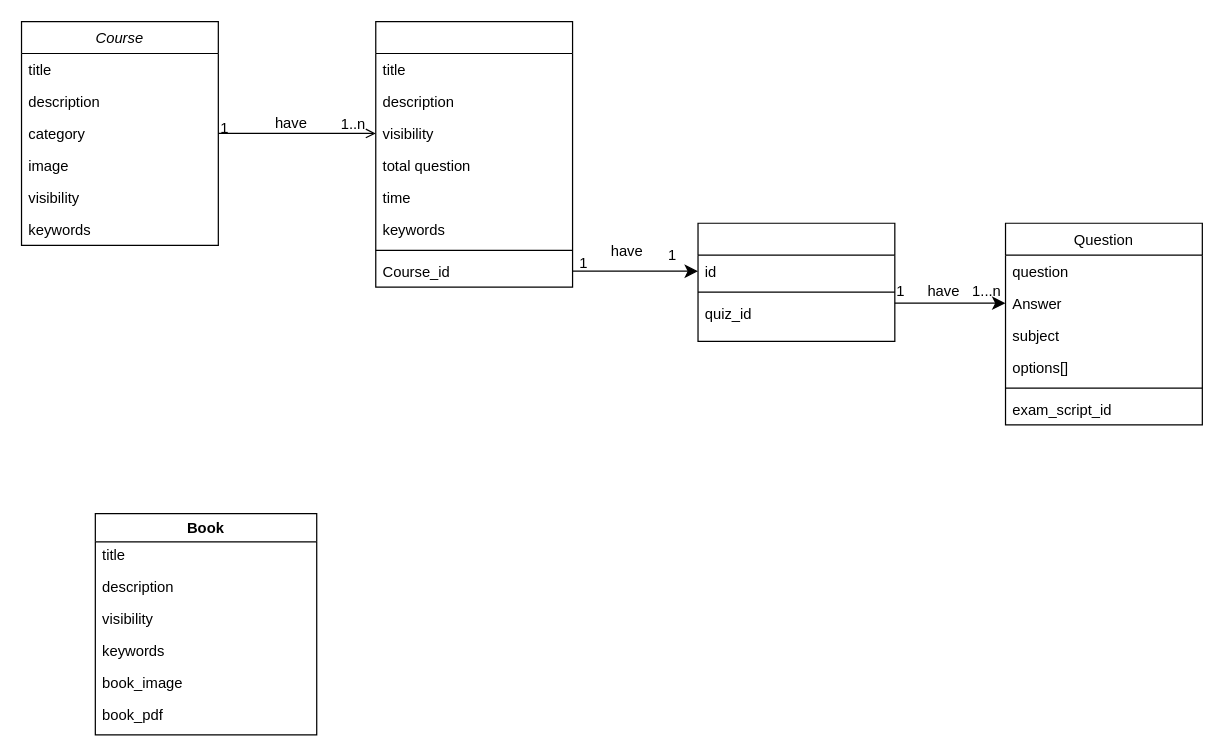
Image size: 1224x756. Some labels were removed from this diagram. Here are the shapes that lost their labels. From the top down, the box of each, then its label:
(375, 20, 573, 287): Quiz
(697, 222, 895, 341): exam_script
